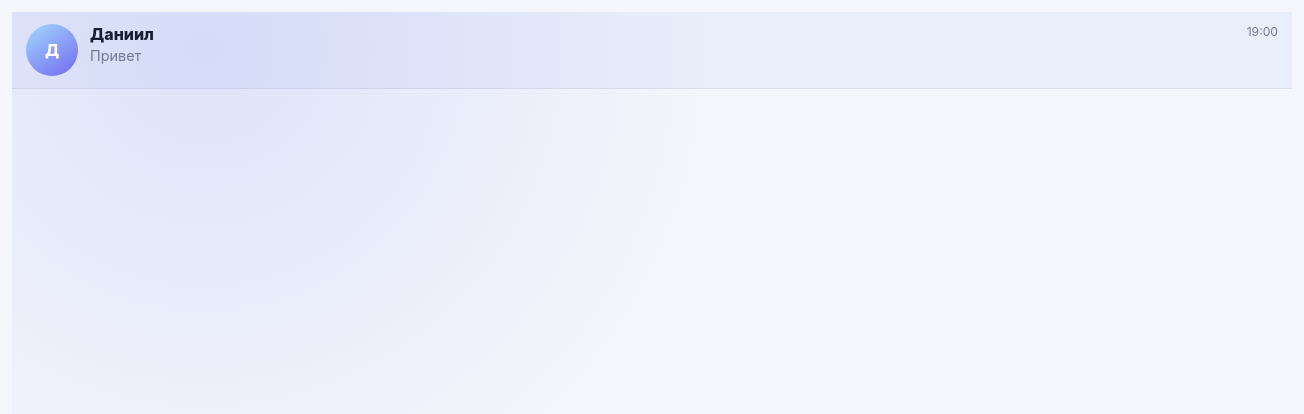
chat context menu › offers MAX-like chat actions without opening the chat on right-click
Right-click the button "Д Даниил Привет 19:00": x=52, y=50 [12,12,1292,89]
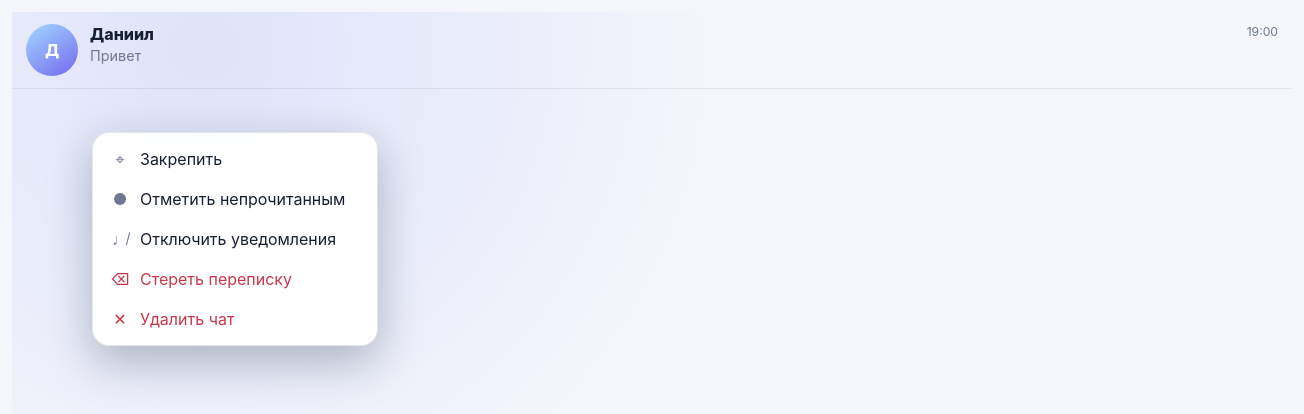
Expected: the menu item "⌖ Закрепить" is shown, [99,139,371,179]
Expected: the menu item "● Отметить непрочитанным" is shown, [99,179,371,219]
Expected: the menu item "♩̸ Отключить уведомления" is shown, [99,219,371,259]
